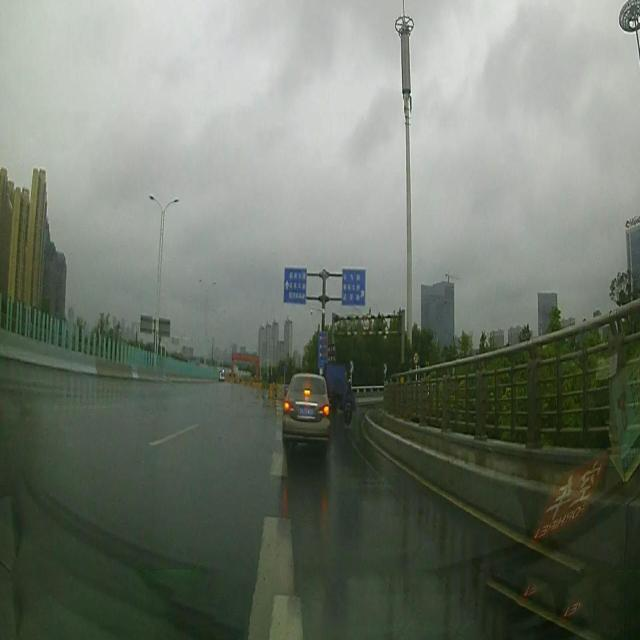car: (282, 372, 330, 449)
